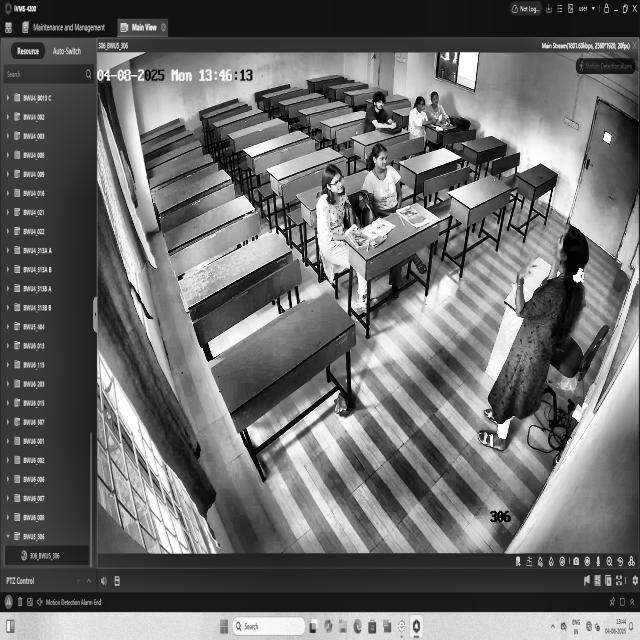Focus: (540, 214, 588, 324), (319, 164, 352, 224), (368, 142, 401, 198), (368, 85, 393, 127), (432, 84, 445, 120), (414, 97, 428, 122)
